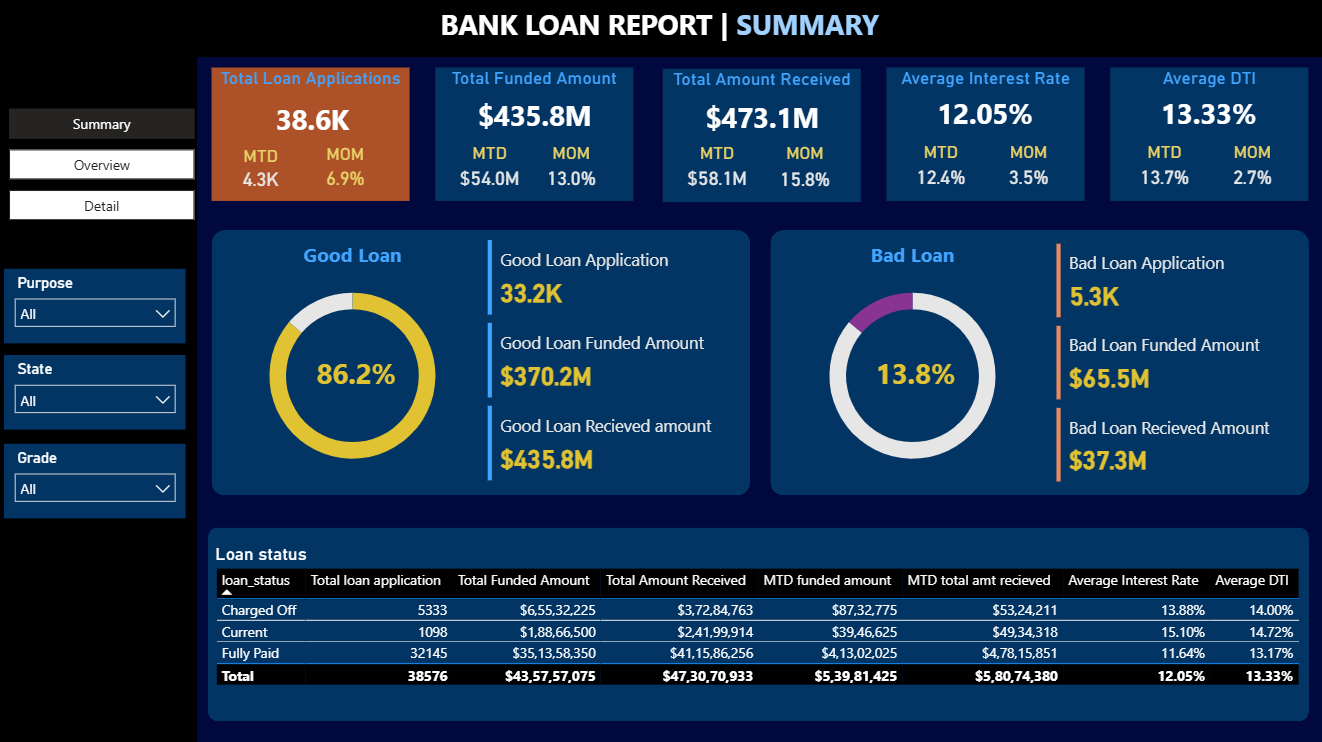

The page's visual inventory and layout, read from the dashboard file:
{"tool":"powerbi","page":{"name":"Summary","canvas":[1280,720],"ordinal":0},"visuals":[{"type":"shape","box":[0,0,1280.3,55],"z":0},{"type":"textbox","title":" Total Funded Amount","box":[421.1,65.1,191.4,129],"z":1000,"group":"g2"},{"type":"textbox","title":"Average Interest Rate","box":[856,65.1,191.4,129],"z":1000,"group":"g4"},{"type":"textbox","title":"Average DTI","box":[1072.1,65.1,191.4,129],"z":1000,"group":"g5"},{"type":"textbox","title":"Total Loan Applications","box":[204.9,65.7,191.4,129],"z":1000,"group":"g1"},{"type":"textbox","title":"Total Amount Received","box":[640.1,65.9,191.4,129],"z":1000,"group":"g3"},{"type":"card","fields":{"Values":["financial_loan.Total loan application"]},"box":[195.7,85.7,195.7,43.2],"z":1000},{"type":"card","fields":{"Values":["financial_loan.Total loan application"]},"box":[415.7,85.7,195.7,43.2],"z":2000},{"type":"card","title":"MTD","fields":{"Values":["financial_loan.MTD avg int rate"]},"box":[874,136.8,68.7,51.9],"z":2000,"group":"g4"},{"type":"card","title":"MTD","fields":{"Values":["financial_loan.MTD avg dti"]},"box":[1090.1,136.8,68.7,51.9],"z":2000,"group":"g5"},{"type":"card","title":"MTD","fields":{"Values":["financial_loan.MTD funded amount"]},"box":[436.7,137.3,73.6,51],"z":2000,"group":"g2"},{"type":"card","title":"MTD","fields":{"Values":["financial_loan.MTD total amt recieved"]},"box":[658.1,137.6,68.7,51.9],"z":2000,"group":"g3"},{"type":"card","title":"MTD","fields":{"Values":["financial_loan.MTD loan application"]},"box":[223.7,140.2,56.5,48.3],"z":2000,"group":"g1"},{"type":"shape","box":[0,54.7,191.3,666],"z":3000},{"type":"card","title":"MOM","fields":{"Values":["financial_loan.MOM avg int rate"]},"box":[958,135.9,69.4,52.4],"z":3000,"group":"g4"},{"type":"card","title":"MOM","fields":{"Values":["financial_loan.MOM avg dti"]},"box":[1174.1,135.9,69.4,52.4],"z":3000,"group":"g5"},{"type":"card","title":"MOM","fields":{"Values":["financial_loan.MOM total amt received"]},"box":[742.1,136.7,69.4,52.4],"z":3000,"group":"g3"},{"type":"card","title":"MOM","fields":{"Values":["financial_loan.MOM funded amount"]},"box":[516,137.3,72.2,51],"z":3000,"group":"g2"},{"type":"card","title":"MOM","fields":{"Values":["financial_loan.MOM loan application"]},"box":[305.5,139.3,58.1,49.6],"z":3000,"group":"g1"},{"type":"textbox","box":[421.5,0,527.9,59],"z":4000},{"type":"group","id":"g1","title":"Group 2","box":[204.9,65.7,191.4,129],"z":5000},{"type":"card","fields":{"Values":["financial_loan.Good Loan Percentage"]},"box":[302.7,318.3,131.7,48.2],"z":6000},{"type":"group","id":"g2","title":"Group 1","box":[421.1,65.1,191.4,129],"z":7000},{"type":"group","id":"g3","title":"Group 1","box":[640.1,65.9,191.4,129],"z":8000},{"type":"card","fields":{"Values":["financial_loan.Total loan application"]},"box":[241.2,92.6,122.4,48.4],"z":8000,"group":"g1"},{"type":"card","fields":{"Values":["financial_loan.Average Interest Rate"]},"box":[885.4,86.8,131.9,47.8],"z":8001,"group":"g4"},{"type":"card","fields":{"Values":["financial_loan.Average DTI"]},"box":[1101.5,86.8,131.9,47.8],"z":8001,"group":"g5"},{"type":"card","fields":{"Values":["financial_loan.Total Funded Amount"]},"box":[450.7,88,131.8,48.4],"z":8001,"group":"g2"},{"type":"card","fields":{"Values":["financial_loan.Total Amount Received"]},"box":[669.7,90.1,131.8,48.4],"z":8001,"group":"g3"},{"type":"group","id":"g4","title":"Group 1","box":[856,65.1,192.6,128.9],"z":9000},{"type":"group","id":"g5","title":"Group 1","box":[1072.1,65.1,192.6,128.9],"z":10000},{"type":"group","id":"g6","title":"Group 3","box":[205.2,222.2,520,256.3],"z":11000},{"type":"shape","box":[205.2,222.2,520,256.3],"z":11000,"group":"g6"},{"type":"shape","box":[744.4,222.2,520,256.3],"z":11000,"group":"g7"},{"type":"donutChart","title":"Good Loan","fields":{"Category":["financial_loan.Good Loan VS Bad Loan"],"Y":["financial_loan.Total loan application"]},"box":[210.9,233.5,260.3,235.1],"z":12000,"group":"g6"},{"type":"donutChart","title":"Bad Loan","fields":{"Category":["financial_loan.Good Loan VS Bad Loan"],"Y":["financial_loan.Total loan application"]},"box":[750.1,233.5,262.9,235.1],"z":12000,"group":"g7"},{"type":"shape","box":[201.5,509.1,1062.9,187],"z":12000},{"type":"group","id":"g7","title":"Group 3","box":[744.4,222.2,520,256.3],"z":13000},{"type":"cardVisual","fields":{"Data":["financial_loan.Good Loan Application","financial_loan.Good Loan Funded Amt","financial_loan.Good Loan Recieved amt"]},"box":[467,227.2,248.8,243.4],"z":14000,"group":"g6"},{"type":"cardVisual","fields":{"Data":["financial_loan.Bad Loan Application","financial_loan.Bad Loan Funded Amt","financial_loan.Bad Loan Recieved amt"]},"box":[1015.9,230.7,232.7,240.8],"z":14000,"group":"g7"},{"type":"tableEx","title":"Loan status","fields":{"Values":["financial_loan.loan_status","financial_loan.Total loan application","financial_loan.Total Funded Amount","financial_loan.Total Amount Received","financial_loan.MTD funded amount","financial_loan.MTD total amt recieved","financial_loan.Average Interest Rate","financial_loan.Average DTI"]},"box":[203.9,524.8,1060.5,187],"z":14000},{"type":"card","fields":{"Values":["financial_loan.Good Loan Percentage"]},"box":[283.4,338.3,122.3,48.2],"z":14501,"group":"g6"},{"type":"card","fields":{"Values":["financial_loan.Bad Loan Percentage"]},"box":[823.4,338.3,123.5,48.2],"z":14501,"group":"g7"},{"type":"slicer","fields":{"Values":["financial_loan.purpose"]},"box":[4.3,258.9,175.5,71.9],"z":15000},{"type":"slicer","fields":{"Values":["financial_loan.address_state"]},"box":[4.3,342.4,175.5,71.9],"z":16000},{"type":"slicer","fields":{"Values":["financial_loan.grade"]},"box":[4.3,428.7,175.5,71.9],"z":17000},{"type":"pageNavigator","box":[9.7,105,179.8,109.8],"z":18000}]}

Visuals, with their boxes in screenshot pixels (x1, y1, x2, y2), scaled from the page's 1280x720 canvas onto the 1322x742 screenshot:
shape: box(0, 0, 1321, 57)
" Total Funded Amount" textbox: box(435, 67, 633, 200)
"Average Interest Rate" textbox: box(884, 67, 1082, 200)
"Average DTI" textbox: box(1107, 67, 1305, 200)
"Total Loan Applications" textbox: box(212, 68, 409, 201)
"Total Amount Received" textbox: box(661, 68, 859, 201)
card - financial_loan.Total loan application: box(202, 88, 404, 133)
card - financial_loan.Total loan application: box(429, 88, 631, 133)
"MTD" card: box(903, 141, 974, 194)
"MTD" card: box(1126, 141, 1197, 194)
"MTD" card: box(451, 141, 527, 194)
"MTD" card: box(680, 142, 751, 195)
"MTD" card: box(231, 144, 289, 194)
shape: box(0, 56, 198, 741)
"MOM" card: box(989, 140, 1061, 194)
"MOM" card: box(1213, 140, 1284, 194)
"MOM" card: box(766, 141, 838, 195)
"MOM" card: box(533, 141, 608, 194)
"MOM" card: box(316, 144, 376, 195)
textbox: box(435, 0, 981, 61)
"Group 2" group: box(212, 68, 409, 201)
card - financial_loan.Good Loan Percentage: box(313, 328, 449, 378)
"Group 1" group: box(435, 67, 633, 200)
"Group 1" group: box(661, 68, 859, 201)
card - financial_loan.Total loan application: box(249, 95, 376, 145)
card - financial_loan.Average Interest Rate: box(914, 89, 1051, 139)
card - financial_loan.Average DTI: box(1138, 89, 1274, 139)
card - financial_loan.Total Funded Amount: box(465, 91, 602, 141)
card - financial_loan.Total Amount Received: box(692, 93, 828, 143)
"Group 1" group: box(884, 67, 1083, 200)
"Group 1" group: box(1107, 67, 1306, 200)
"Group 3" group: box(212, 229, 749, 493)
shape: box(212, 229, 749, 493)
shape: box(769, 229, 1306, 493)
"Good Loan" donutChart: box(218, 241, 487, 483)
"Bad Loan" donutChart: box(775, 241, 1046, 483)
shape: box(208, 525, 1306, 717)
"Group 3" group: box(769, 229, 1306, 493)
cardVisual - financial_loan.Good Loan Application x financial_loan.Good Loan Funded Amt: box(482, 234, 739, 485)
cardVisual - financial_loan.Bad Loan Application x financial_loan.Bad Loan Funded Amt: box(1049, 238, 1290, 486)
"Loan status" tableEx: box(211, 541, 1306, 734)
card - financial_loan.Good Loan Percentage: box(293, 349, 419, 398)
card - financial_loan.Bad Loan Percentage: box(850, 349, 978, 398)
slicer - financial_loan.purpose: box(4, 267, 186, 341)
slicer - financial_loan.address_state: box(4, 353, 186, 427)
slicer - financial_loan.grade: box(4, 442, 186, 516)
pageNavigator: box(10, 108, 196, 221)
